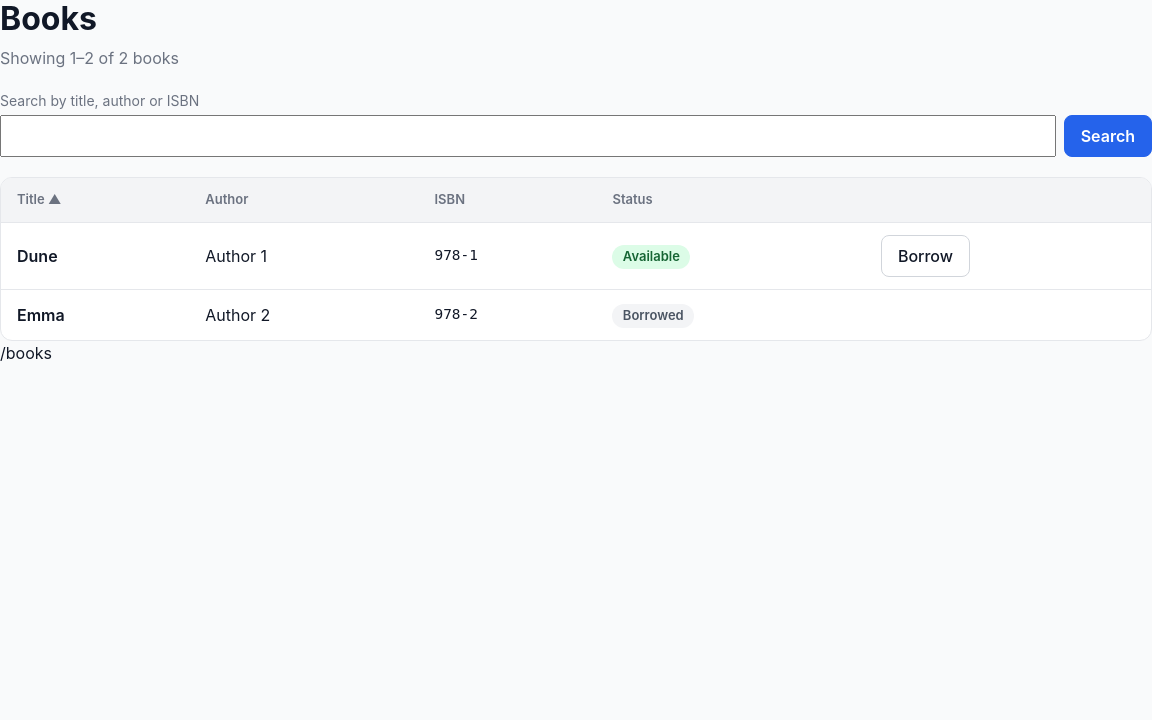
Test: BooksPage borrowing › borrows after confirmation, shows a message and reloads the list and the counts
Click the button with aria-label "Borrow Dune" at (925, 256), box top-left (881, 235), bottom-right (970, 277)
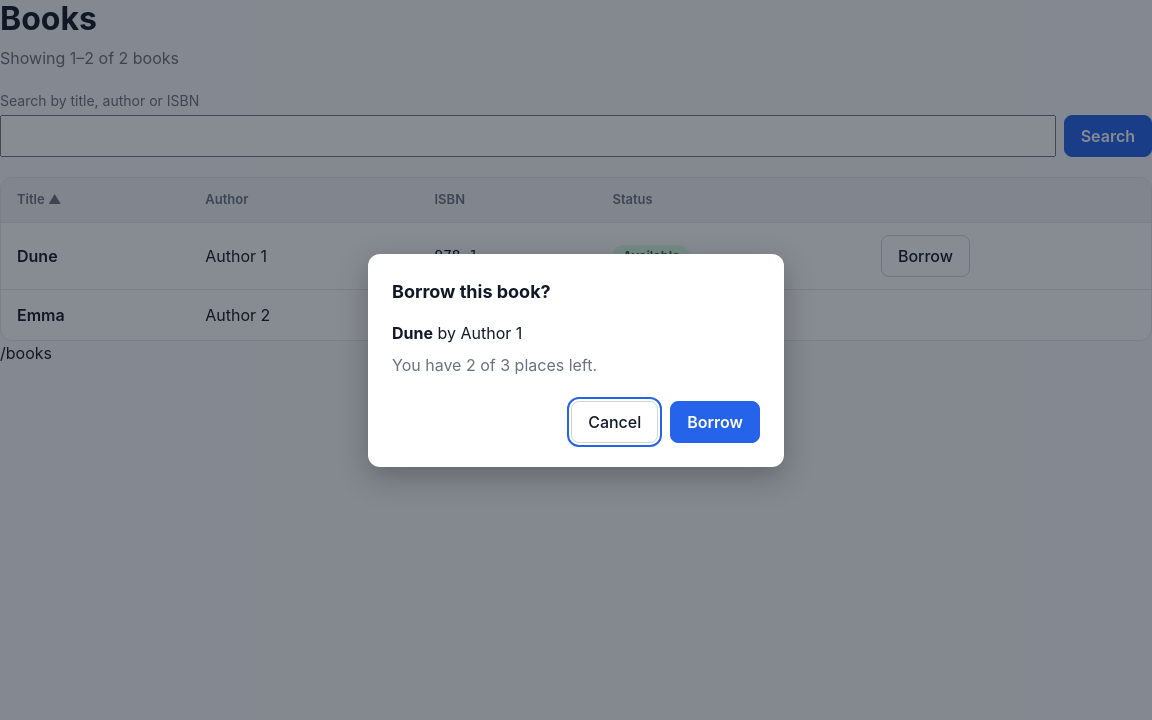
Click the button "Borrow" at (715, 422), box top-left (670, 400), bottom-right (760, 442)
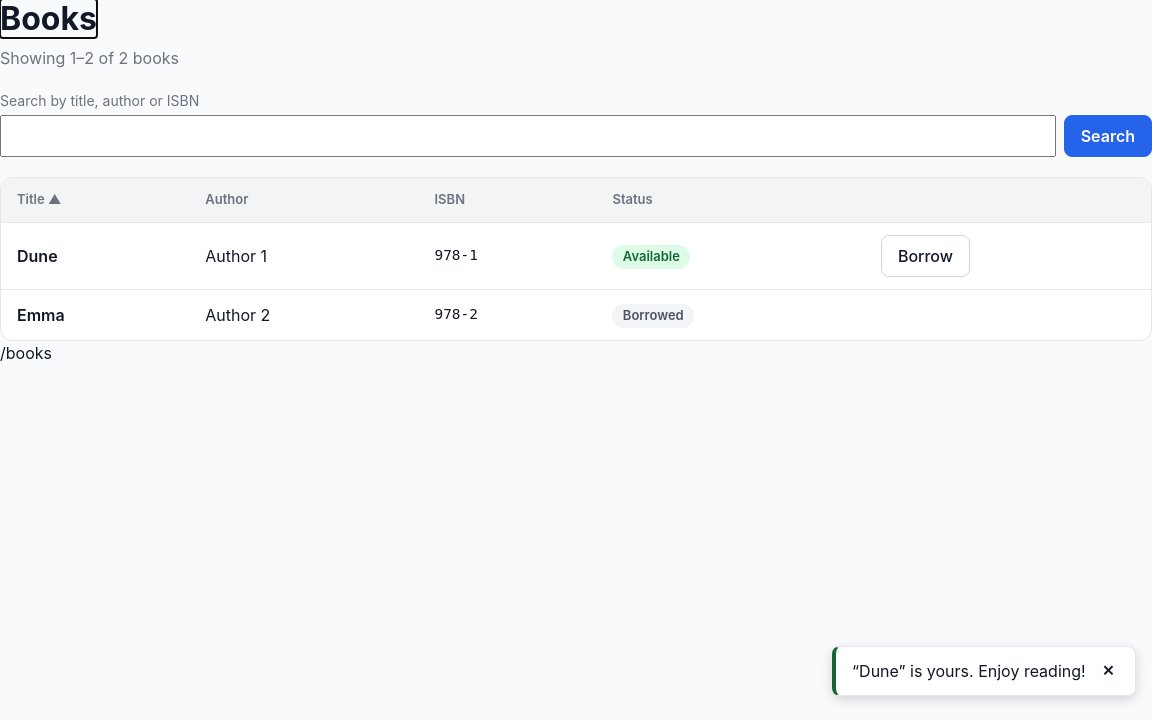
Now the text "“Dune” is yours. Enjoy reading!" is shown, box top-left (852, 659), bottom-right (1086, 683)
